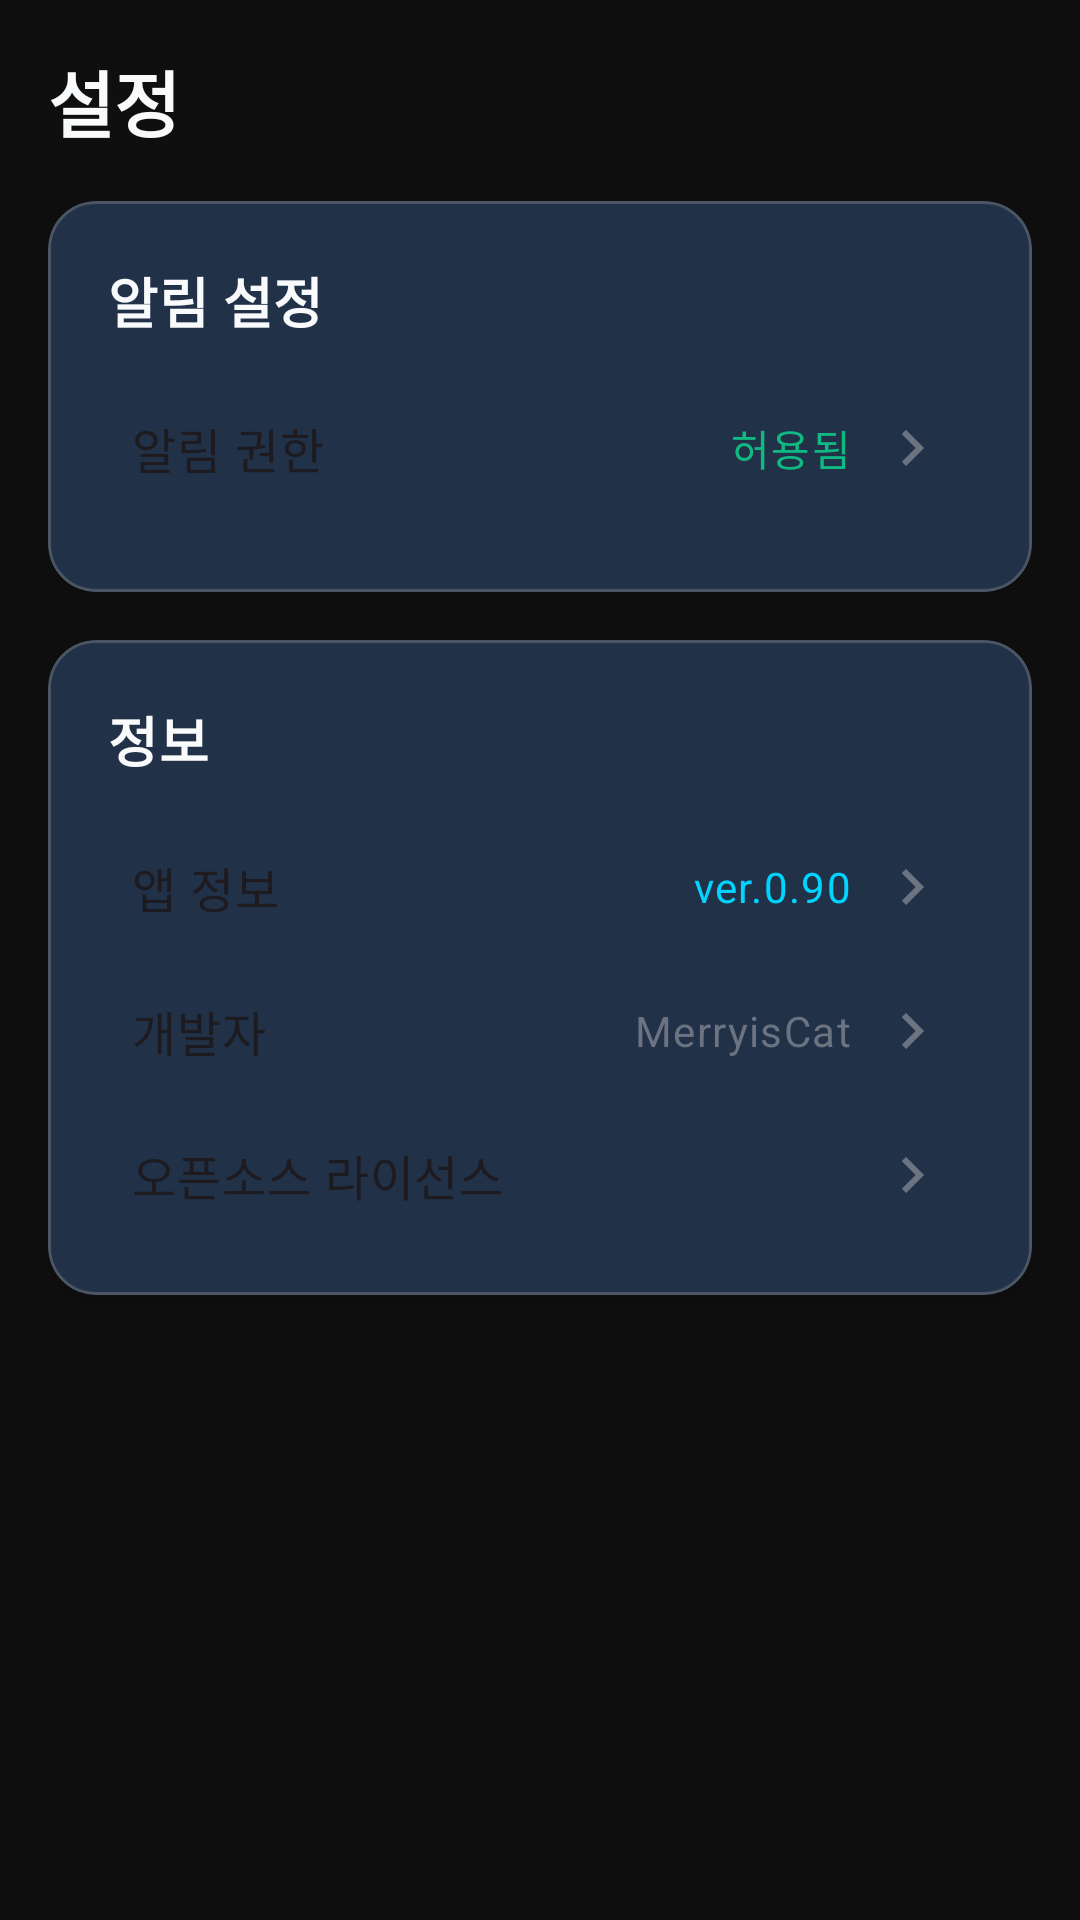

Icon bounding boxes for this 1080×1920 phone screenshot, format (x1, y1, x2, y2):
chevron right: (902, 430, 924, 466), (902, 869, 924, 905), (902, 1013, 924, 1049), (902, 1157, 924, 1193)
